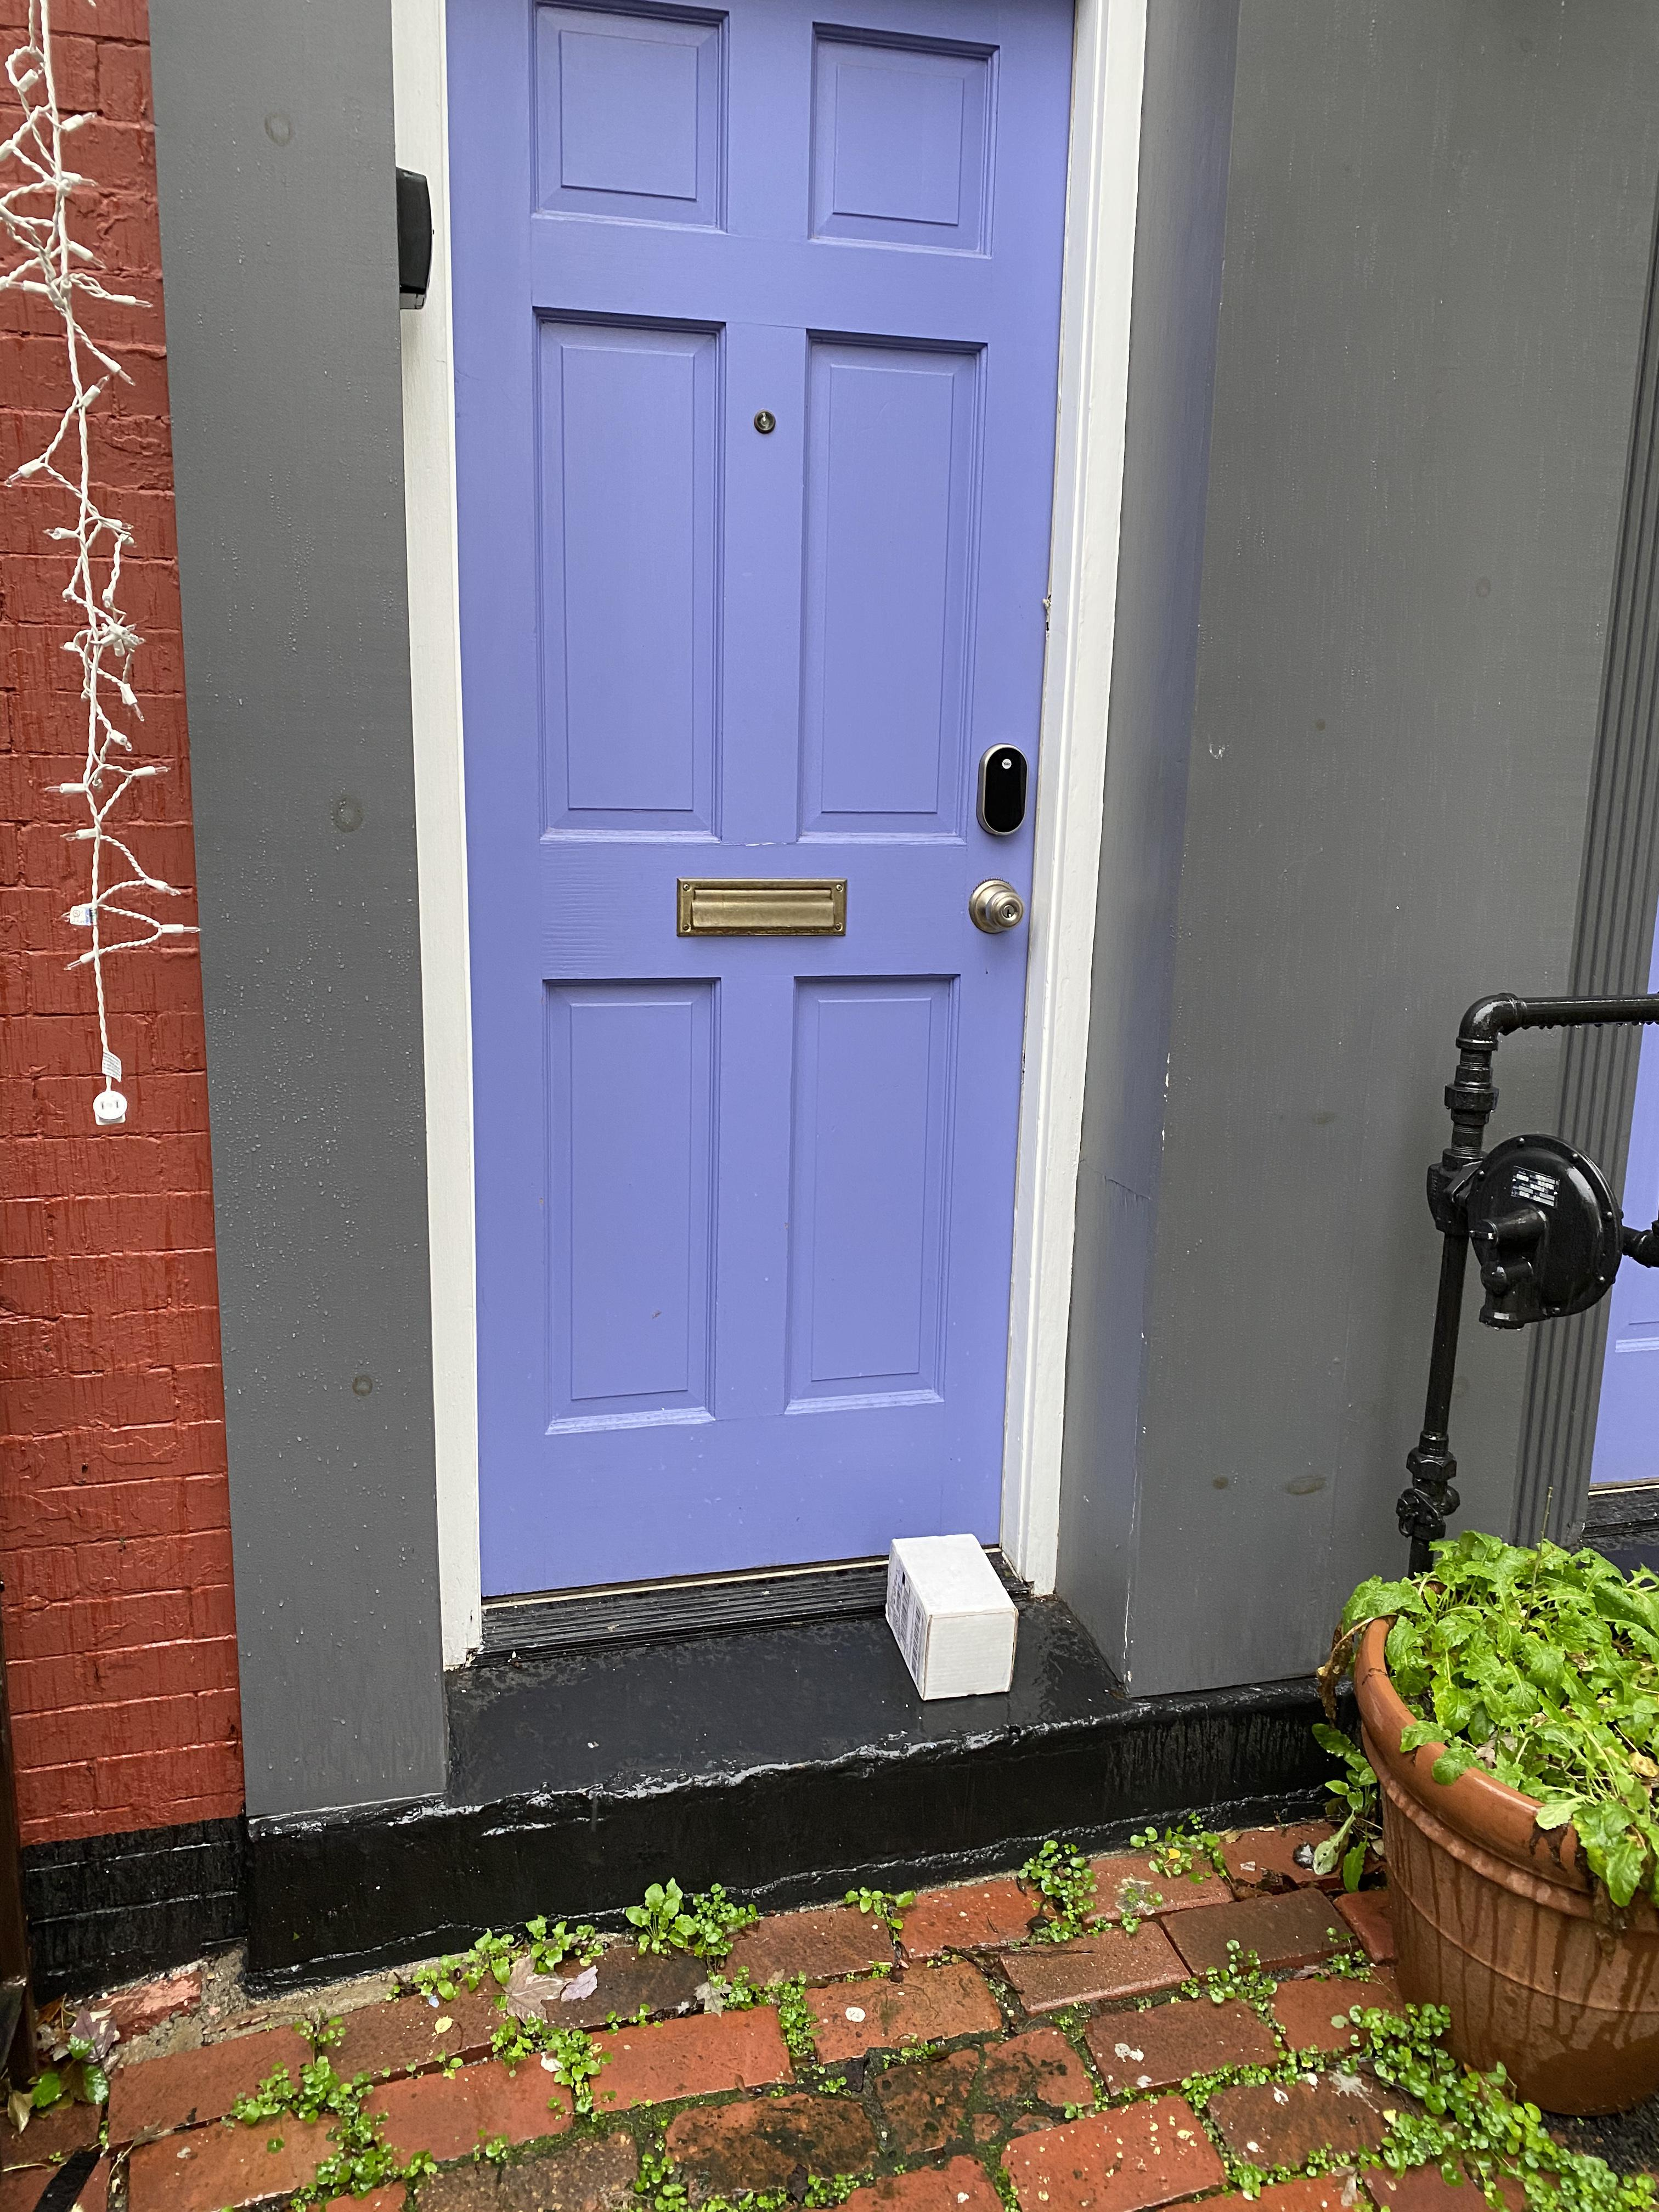package: (870, 1527, 1030, 1709)
